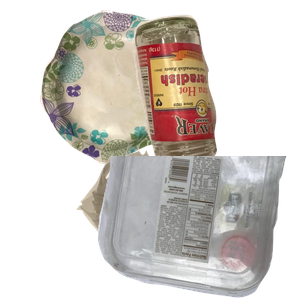glass: (131, 12, 300, 170)
paper: (37, 10, 219, 167)
plastic: (95, 156, 300, 300)
trash: (74, 148, 273, 300)
